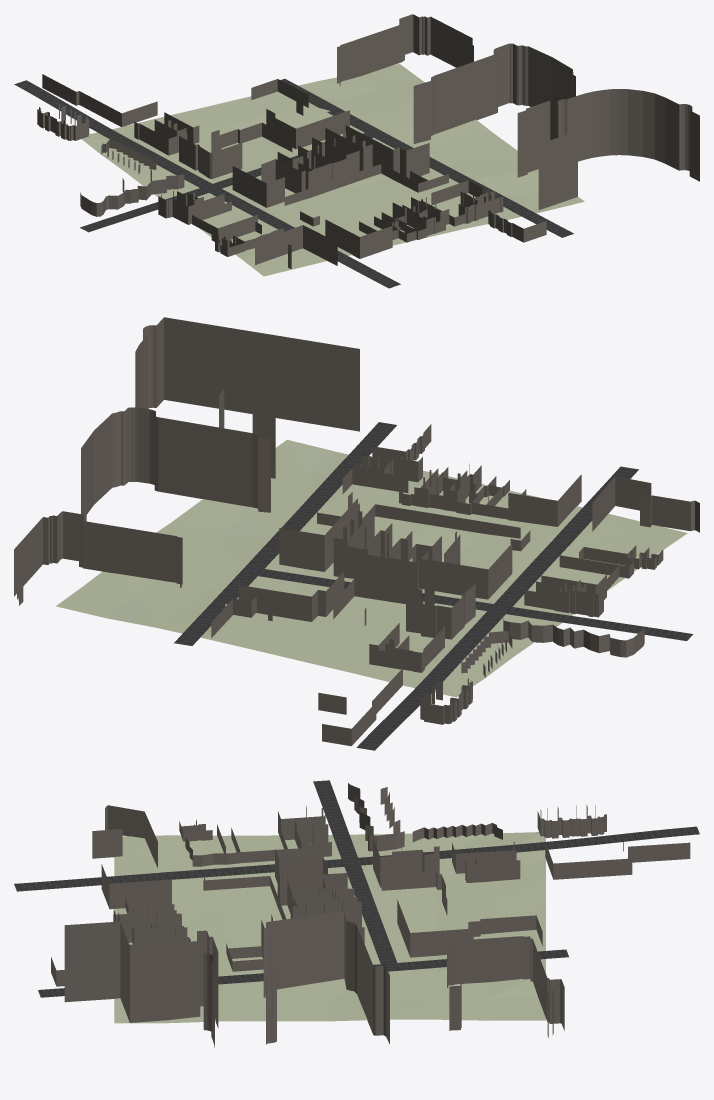
Rendered from tile_31_-31_lod1.gltf.
The picture shows the model from 3 angles, top to bottom: view 1: azimuth 30°, elevation 25°; view 2: azimuth 150°, elevation 25°; view 3: azimuth 270°, elevation 25°; orthographic projection. The views are drawn at different scales.
Parts seen in each view (by area): view 1: Buildings_col, Terrain_col, Roads; view 2: Buildings_col, Terrain_col, Roads; view 3: Buildings_col, Terrain_col, Roads.
Boxes of the visible parts, <box> form: Buildings_col: <box>37,14,699,268</box>; Terrain_col: <box>81,64,584,276</box>; Roads: <box>14,78,573,288</box>; Buildings_col: <box>14,317,699,746</box>; Terrain_col: <box>56,439,687,697</box>; Roads: <box>174,422,692,750</box>; Buildings_col: <box>51,783,690,1047</box>; Terrain_col: <box>114,832,545,1023</box>; Roads: <box>14,780,699,997</box>.
Size of the model in its own units: 417 by 50.42 by 407.
Materials: 3 (1 with a texture image).
